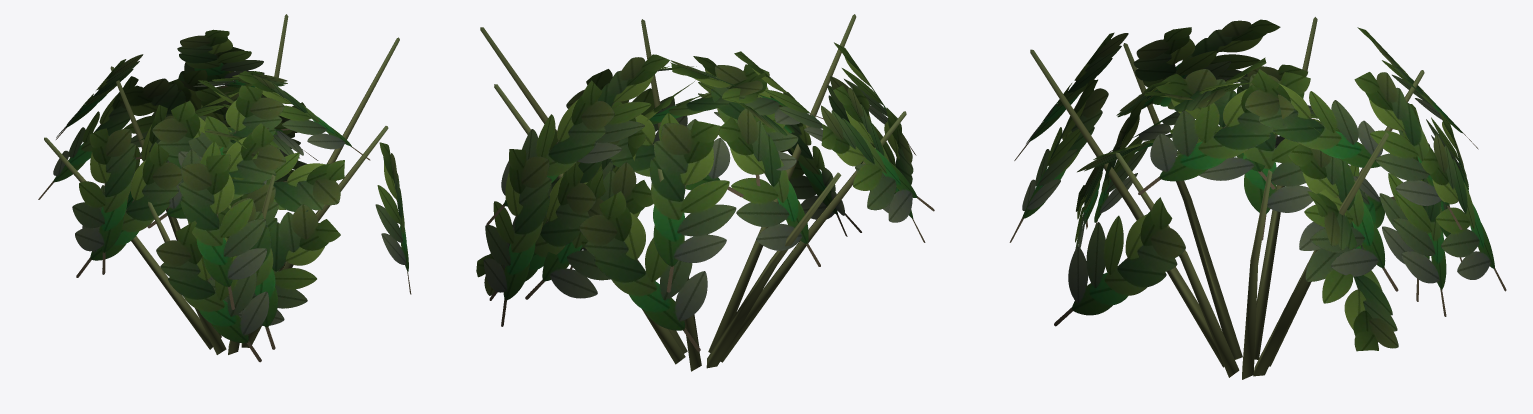
The model's file is shrub-laurel.lod1.glb.
3 views of the same model, side by side, from view 1: azimuth 30°, elevation 25°; view 2: azimuth 150°, elevation 25°; view 3: azimuth 270°, elevation 25° (orthographic). The views are drawn at different scales.
Parts seen in each view (by area): view 1: shrub_laurel_mesh; view 2: shrub_laurel_mesh; view 3: shrub_laurel_mesh.
Part boxes in pixels (x1=…): shrub_laurel_mesh: x1=38, y1=14, x2=411, y2=362; shrub_laurel_mesh: x1=476, y1=14, x2=934, y2=371; shrub_laurel_mesh: x1=1009, y1=17, x2=1506, y2=379.
Bounding box in the file's own units: 1.3 × 0.9049 × 1.38.
Materials: 2 (2 with a texture image).
